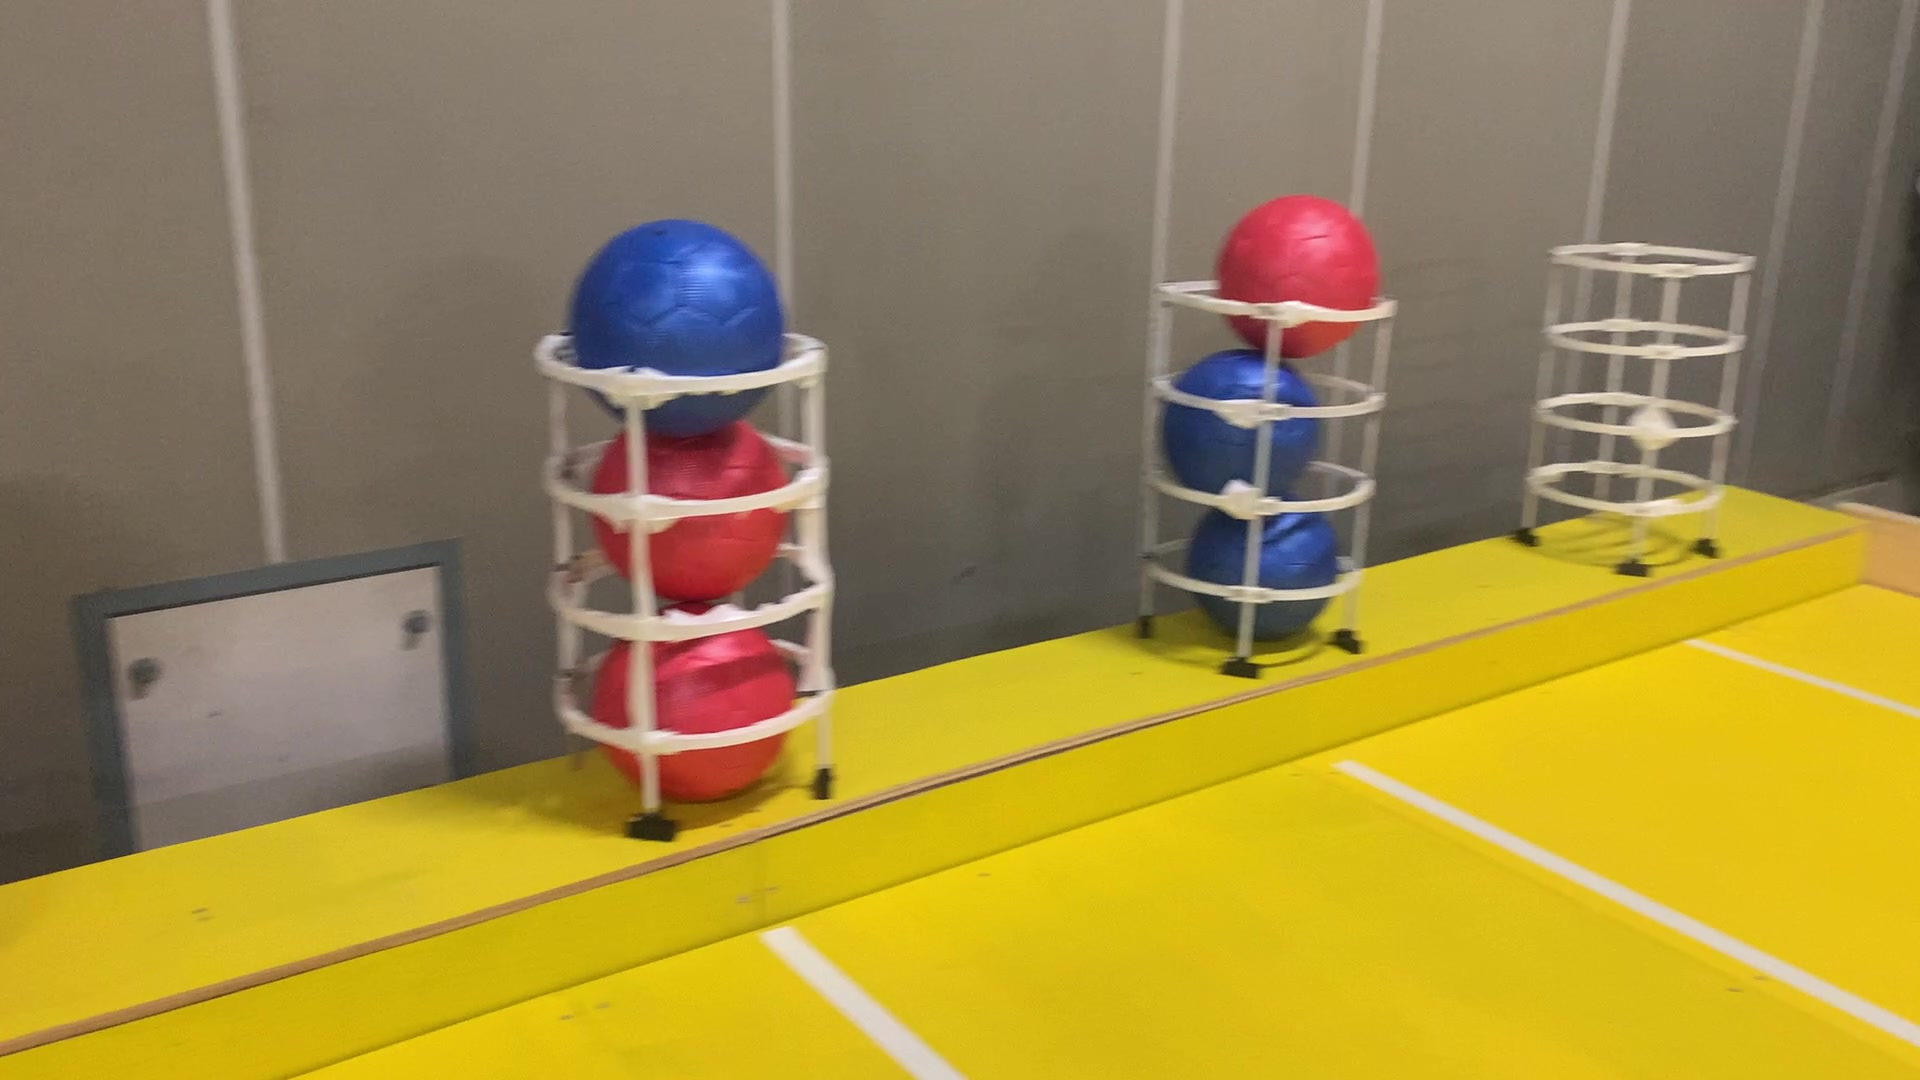blue: (571, 211, 794, 434), (1158, 343, 1321, 517), (1188, 480, 1352, 644)
red: (587, 410, 796, 608), (589, 608, 796, 800), (1221, 189, 1378, 361)
